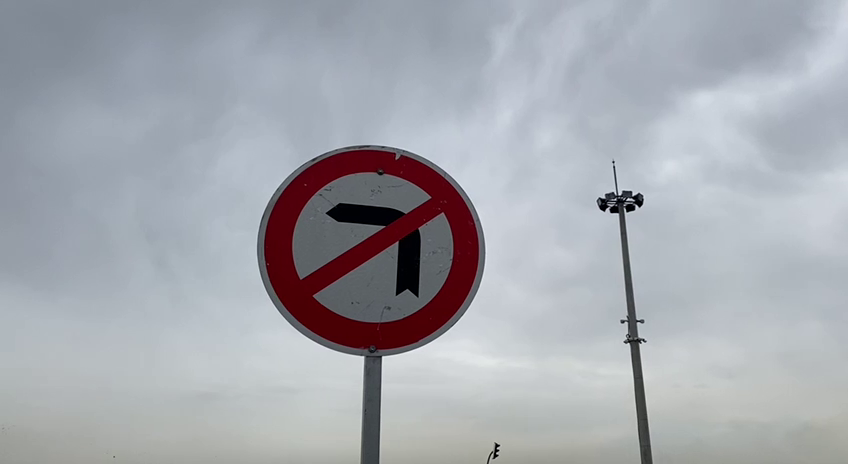noTurnLeft: (249, 140, 490, 363)
